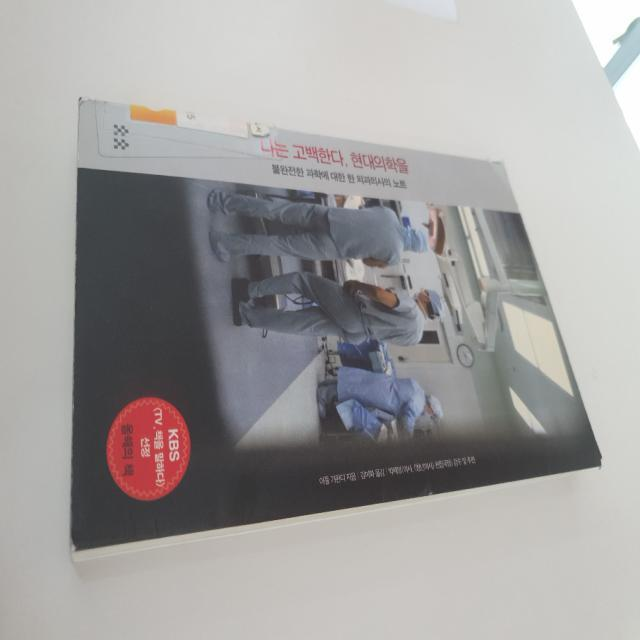Ripped: (484, 150, 510, 187)
Wornout: (63, 392, 91, 555), (69, 92, 107, 176), (417, 482, 445, 500), (592, 437, 606, 472)
